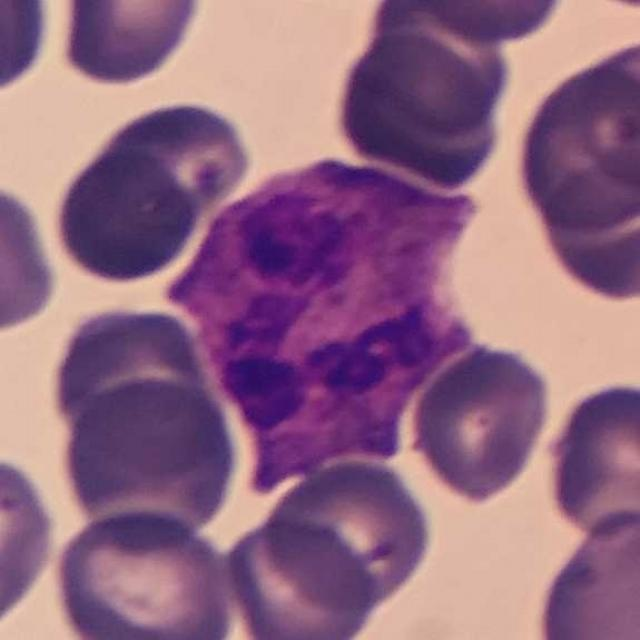Neutrophil: (162, 130, 498, 488)
RBC: (53, 373, 245, 545), (326, 25, 514, 194), (504, 27, 640, 249), (258, 453, 439, 614), (43, 298, 216, 450), (48, 504, 239, 640), (404, 338, 555, 507), (219, 512, 382, 640), (55, 152, 203, 286), (358, 2, 516, 126), (526, 145, 640, 307), (100, 99, 250, 220), (540, 374, 640, 541), (526, 504, 640, 640), (50, 0, 212, 89), (0, 448, 61, 634), (0, 177, 62, 336), (395, 0, 576, 49), (0, 0, 58, 104)
